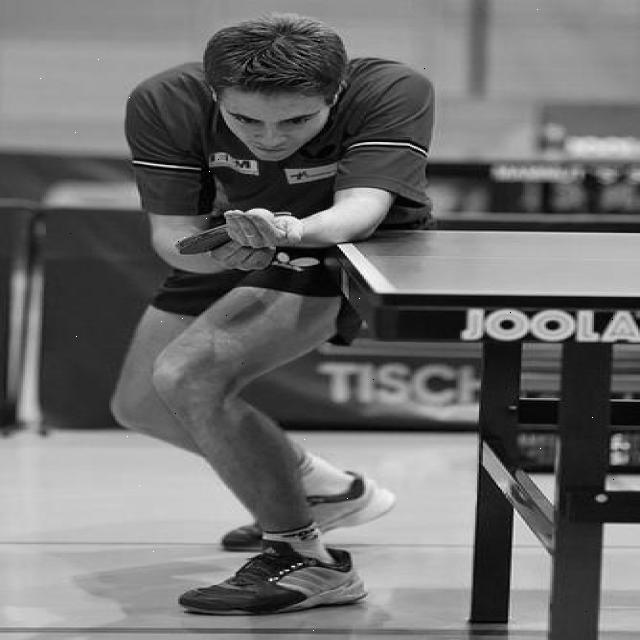ping-pong-ball: (243, 207, 275, 227)
